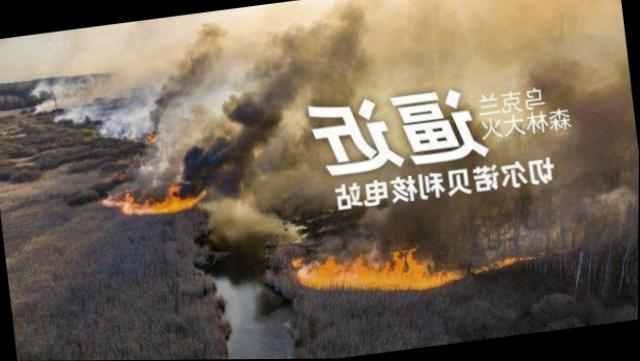fire: (289, 226, 531, 304), (98, 171, 207, 222), (145, 129, 160, 144)
